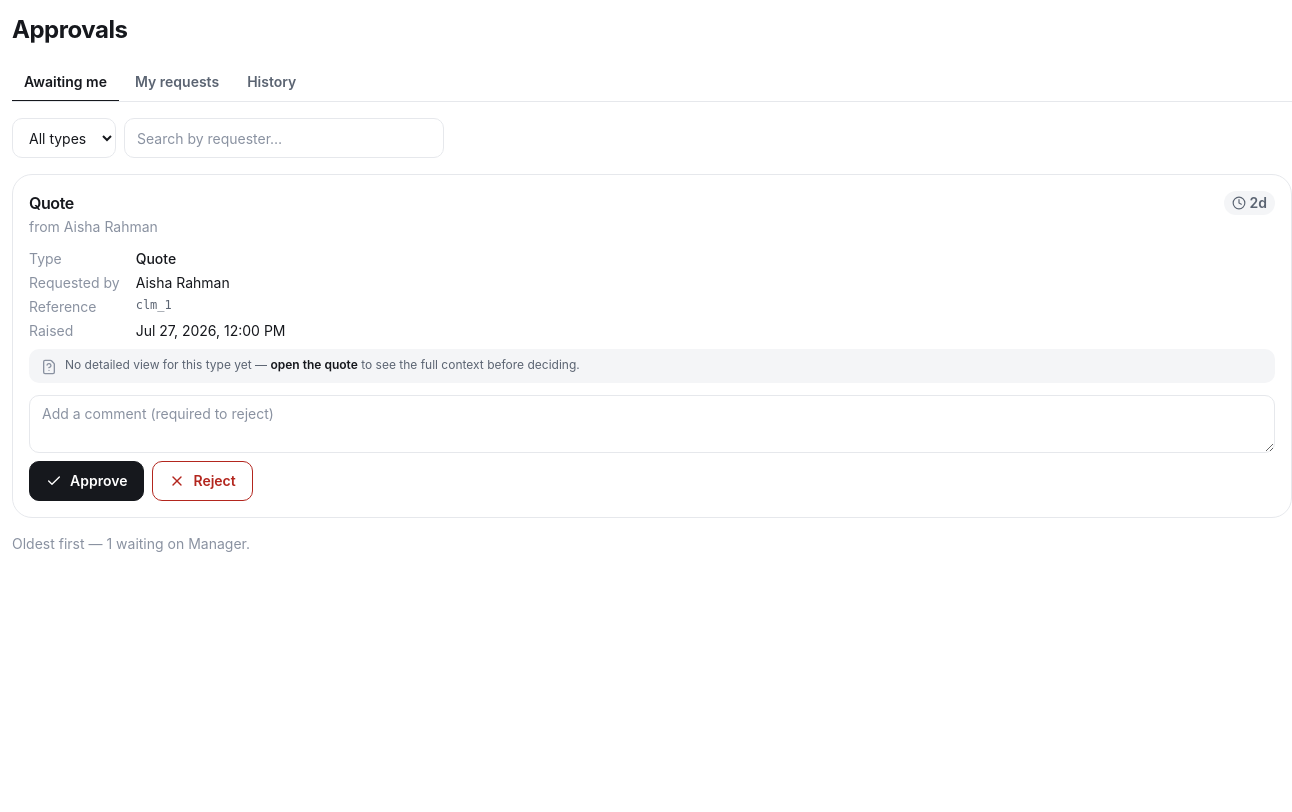
Scenario: Awaiting me › surfaces a non-409 failure without claiming somebody else decided
The width and height of the screenshot is (1292, 812).
Expected: the text "clm_1" is shown, [136,298,172,312]
What coordinates should you click on to do the following:
click the button "Approve"
I would click on:
 (87, 481)
Its box is [29,461,144,501].
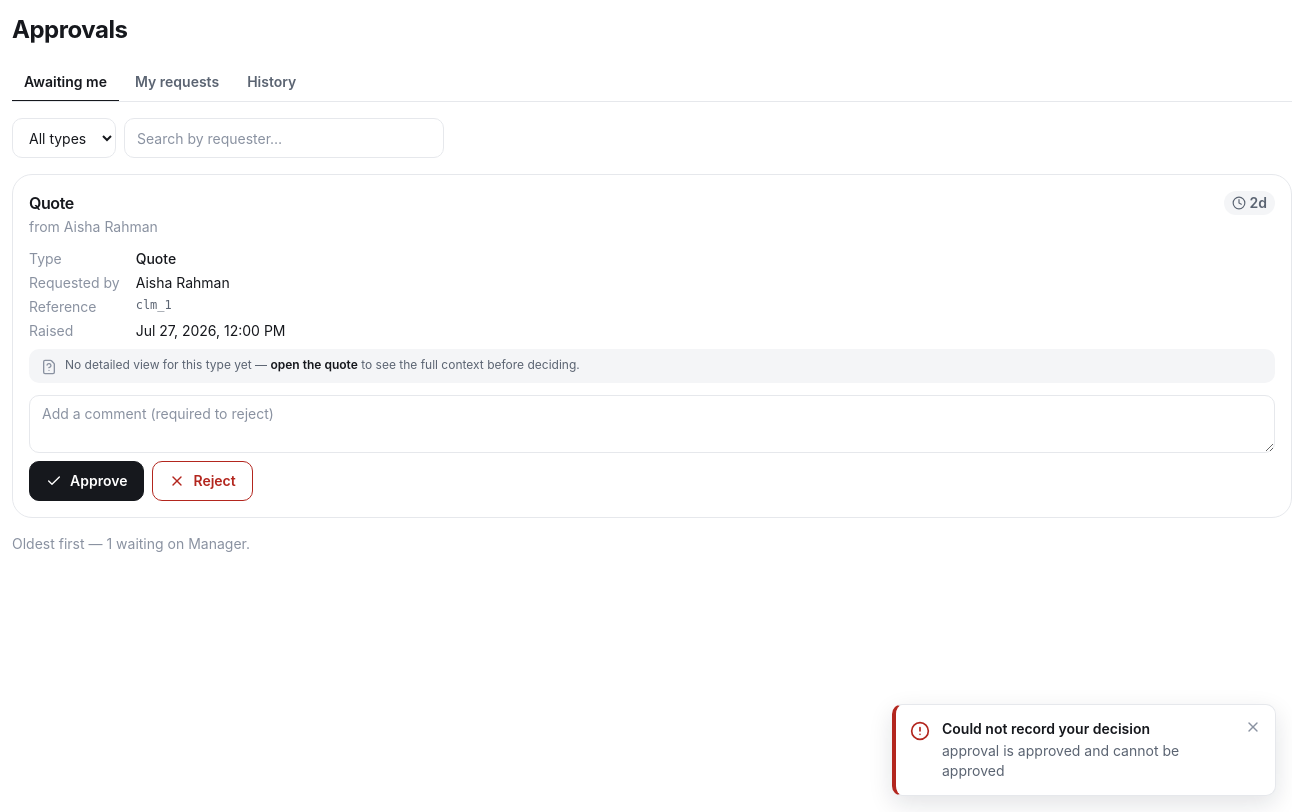
Now the text "Could not record your decision" is shown, box [942,720,1150,737]
